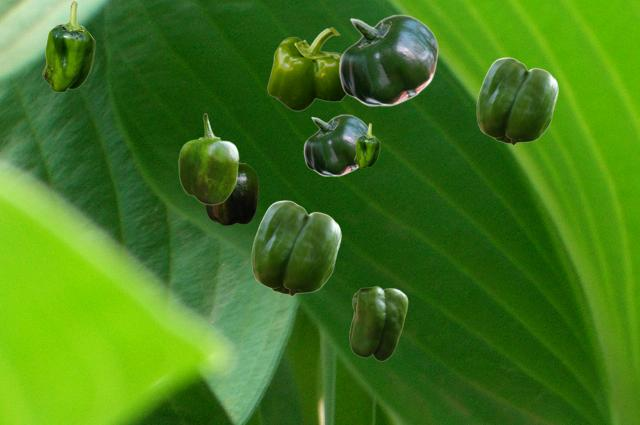bell_pepper: (338, 14, 437, 105), (251, 200, 340, 295), (476, 57, 557, 144), (267, 27, 346, 110), (178, 113, 238, 204), (42, 0, 94, 91), (349, 286, 407, 360), (303, 114, 367, 175), (204, 162, 257, 224), (354, 123, 379, 167)
